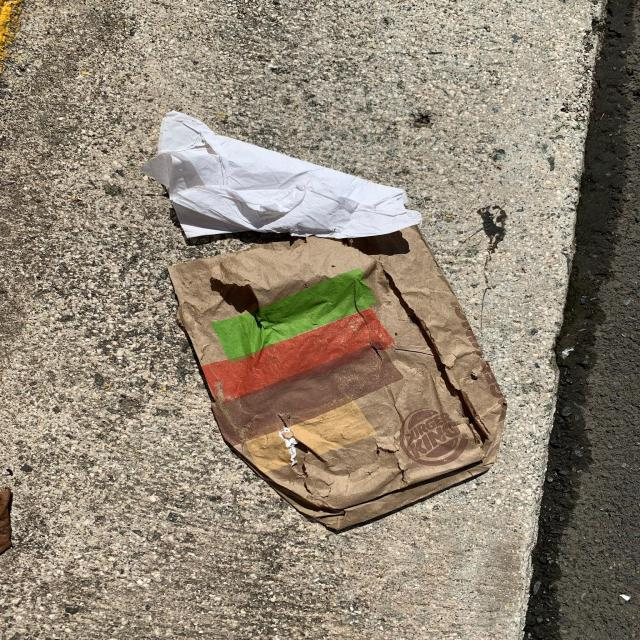litter: (165, 229, 505, 529), (139, 109, 423, 239)
